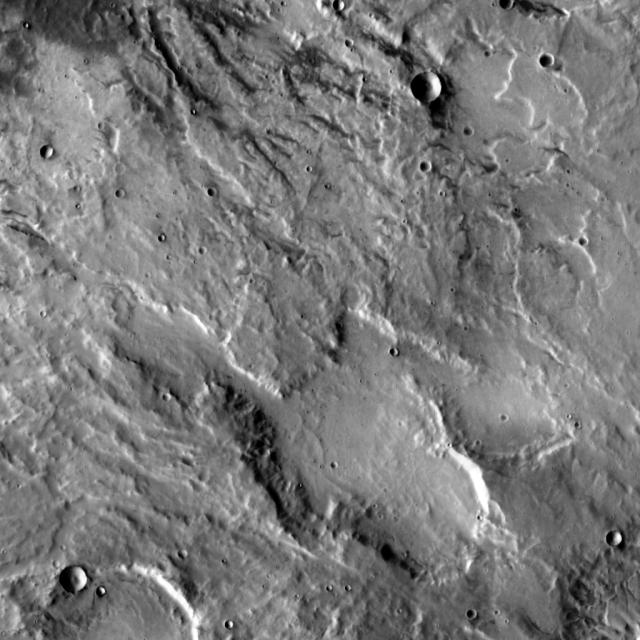crater: (259, 358, 451, 550), (362, 446, 496, 580), (288, 36, 366, 113), (415, 73, 446, 104), (62, 566, 92, 594), (344, 285, 368, 309), (611, 530, 626, 545), (543, 54, 558, 68), (43, 146, 57, 160), (503, 0, 518, 10), (423, 160, 435, 172), (185, 452, 197, 464), (99, 587, 110, 597), (338, 0, 348, 11), (470, 610, 480, 620), (118, 164, 128, 174), (468, 126, 477, 136), (182, 548, 191, 558), (393, 348, 402, 358), (229, 622, 238, 630), (584, 237, 592, 245), (212, 187, 220, 195), (120, 190, 128, 198), (167, 391, 175, 399), (351, 40, 358, 48), (196, 238, 204, 245), (505, 415, 512, 423), (161, 234, 169, 241), (488, 50, 495, 58), (48, 553, 55, 560), (328, 457, 334, 464)
